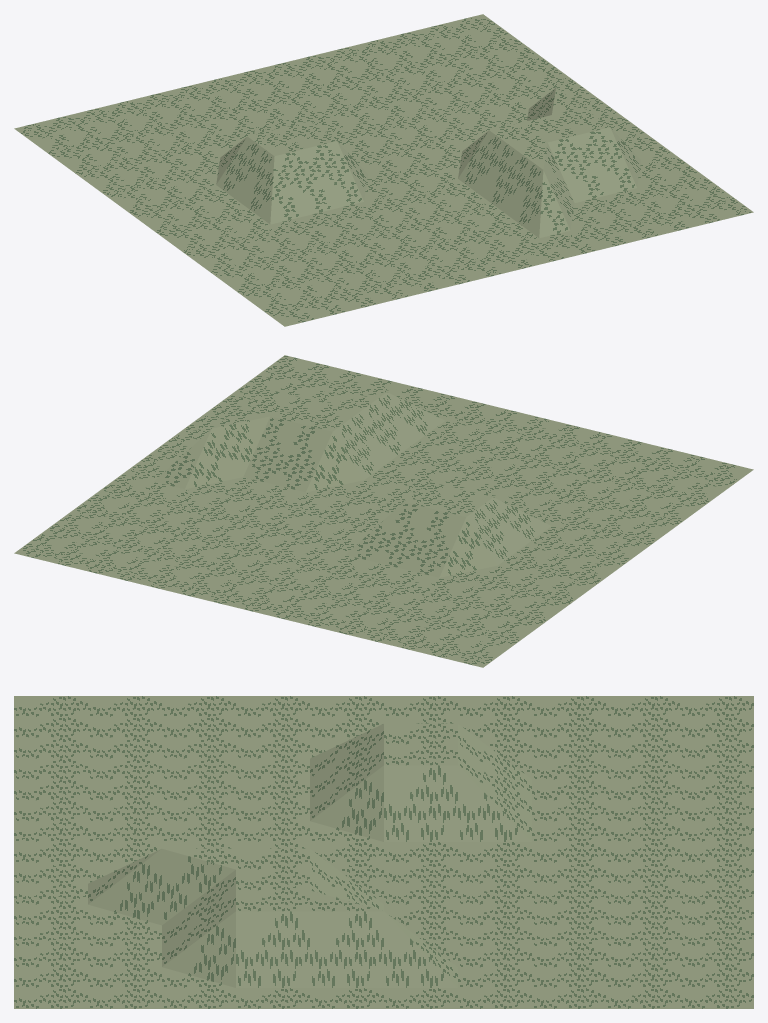
Rendered from world_1.gltf.
3 renders of one model, top to bottom at view 1: azimuth 30°, elevation 25°; view 2: azimuth 150°, elevation 25°; view 3: azimuth 270°, elevation 25°, orthographic. The views are drawn at different scales.
Parts seen in each view (by area): view 1: Object 5813 -col; view 2: Object 5813 -col; view 3: Object 5813 -col.
Boxes of the visible parts, <box> form: Object 5813 -col: <box>14,14,753,326</box>; Object 5813 -col: <box>14,355,753,667</box>; Object 5813 -col: <box>14,696,753,1008</box>.
Size of the model in its own units: 30 by 2.5 by 30.
1 material, 1 textured.
